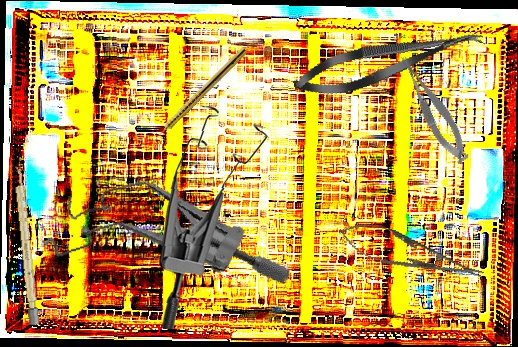Handpiece: (150, 44, 249, 143)
Micro Scissor: (289, 16, 488, 106), (396, 47, 473, 170)
Needle Holder: (333, 213, 489, 294)
Scalpel Handle: (12, 164, 40, 326)
Speculum: (30, 148, 293, 336), (155, 105, 271, 329)
